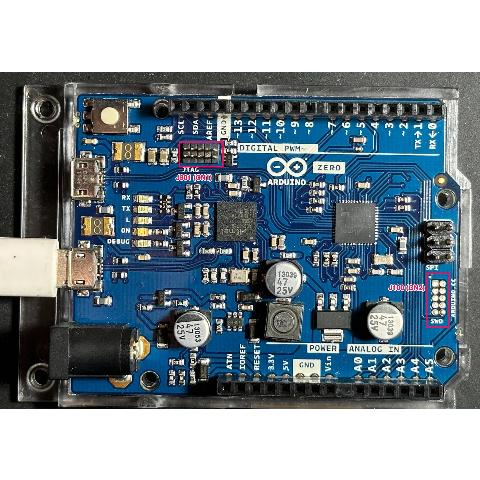Arduino-Zero: (22, 83, 470, 408)
